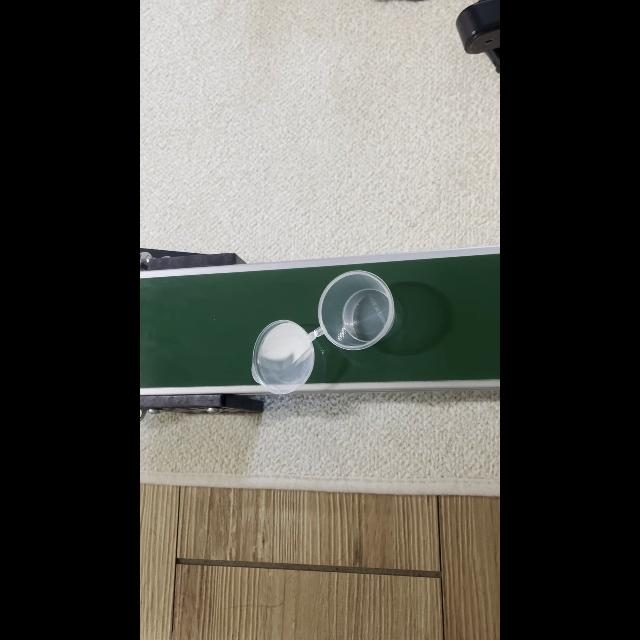clean: (320, 280, 390, 350), (248, 328, 316, 386)
